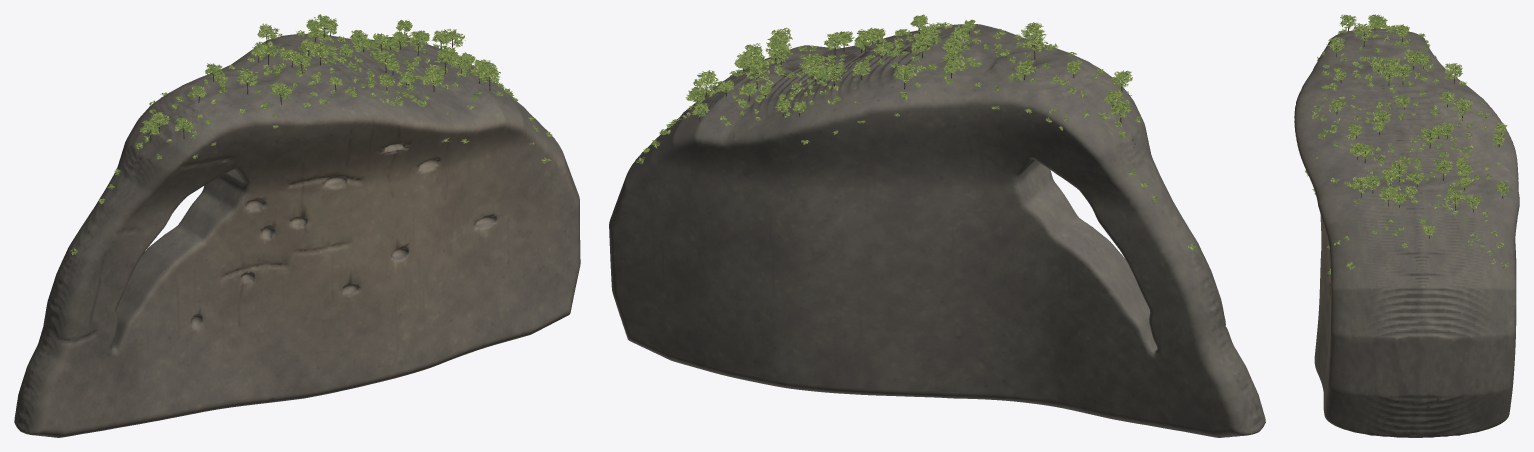
File: elephant-landform-y2.glb
3 renders of one model, left to right at view 1: azimuth 30°, elevation 25°; view 2: azimuth 150°, elevation 25°; view 3: azimuth 270°, elevation 25°, orthographic. The views are drawn at different scales.
Visible parts, largest first — view 1: Elephant cliff | ONE connected solid, Clifftop evergreen foliage | interpreted, Woody branches; view 2: Elephant cliff | ONE connected solid, Clifftop evergreen foliage | interpreted; view 3: Elephant cliff | ONE connected solid, Clifftop evergreen foliage | interpreted, Woody branches.
Boxes of the visible parts, x1,y1,x2,y2 form: Elephant cliff | ONE connected solid: (14, 34, 580, 437); Clifftop evergreen foliage | interpreted: (70, 14, 552, 254); Woody branches: (149, 19, 491, 142); Elephant cliff | ONE connected solid: (609, 24, 1265, 437); Clifftop evergreen foliage | interpreted: (636, 14, 1195, 250); Elephant cliff | ONE connected solid: (1294, 28, 1519, 437); Clifftop evergreen foliage | interpreted: (1305, 14, 1509, 274); Woody branches: (1335, 19, 1503, 238).
Bounding box in the file's own units: 199 × 116 × 80.32.
7 materials, 1 textured.
